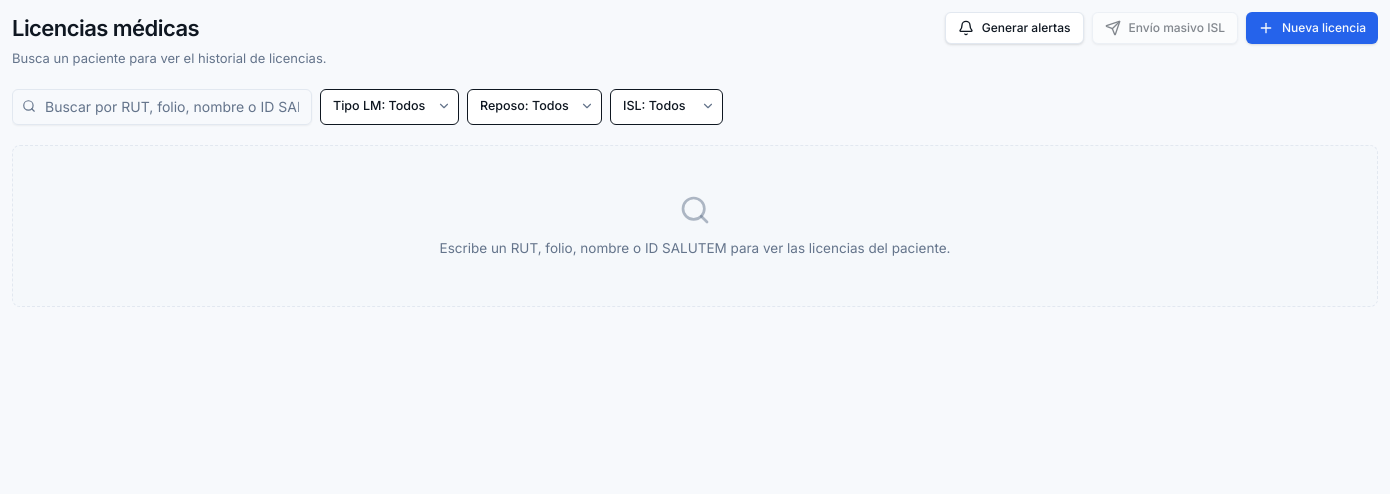
Test: LicenciasPage · buscador de pacientes › con varios pacientes se elige uno y se ven las licencias de su folio
Type "maría" into the field with placeholder "Buscar por RUT, folio, nombre o ID SALUTEM" at point(162, 106), box [12,88,312,124]
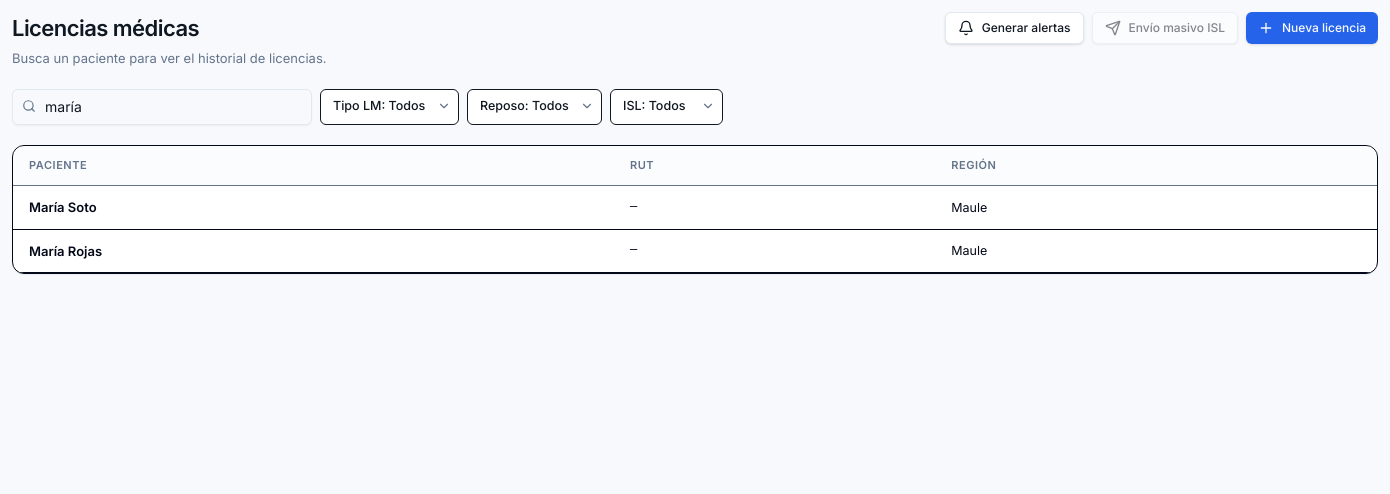
Click the text "María Rojas" at point(66, 251), box [13,229,614,273]
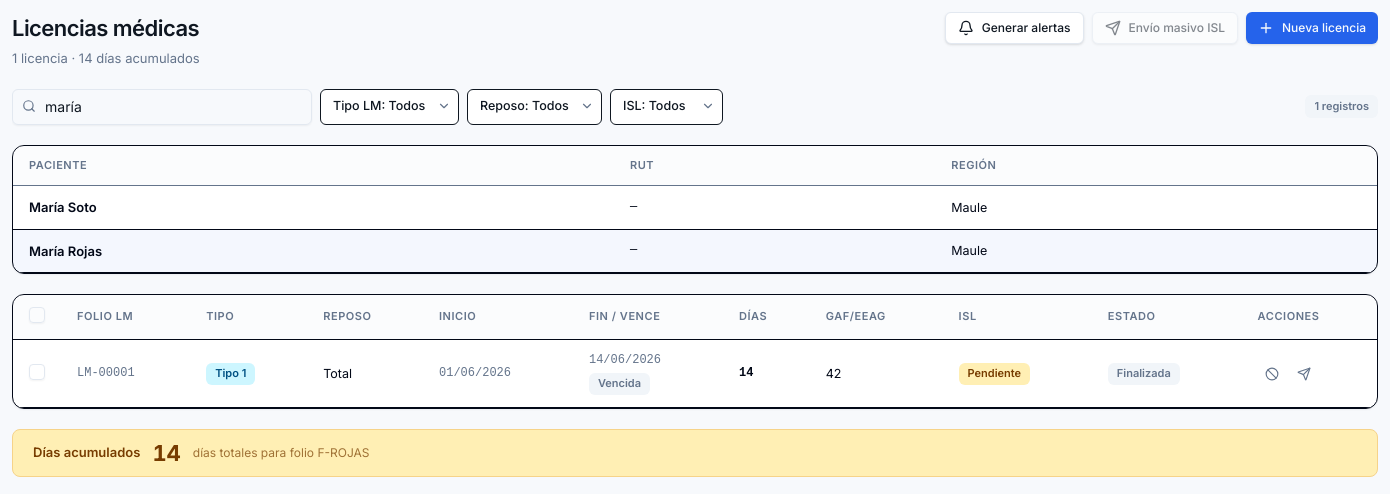
Check: the text "LM-00001" is shown, box [61,340,190,408]
